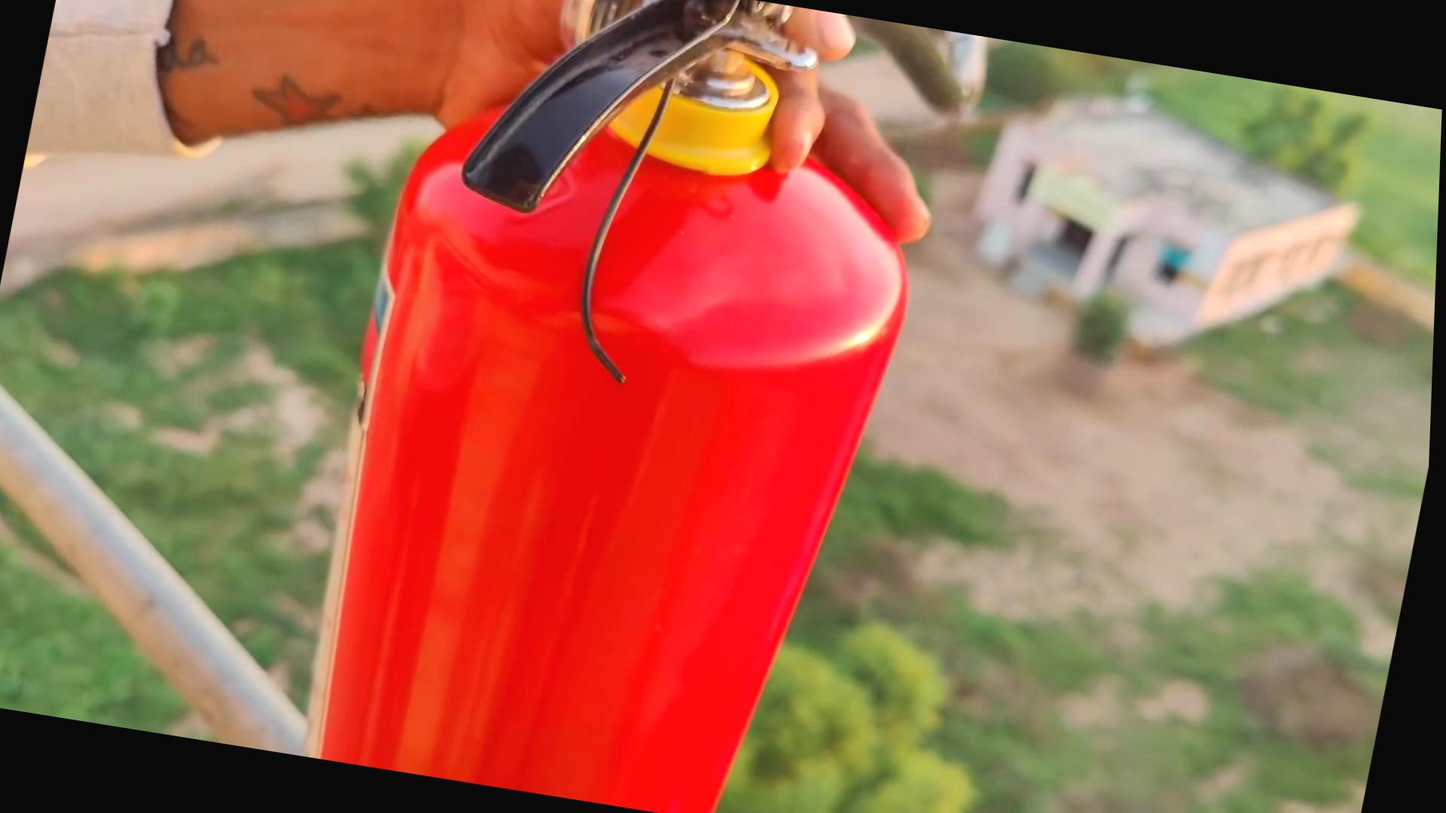FireExtinguisher: (258, 0, 1027, 813)
